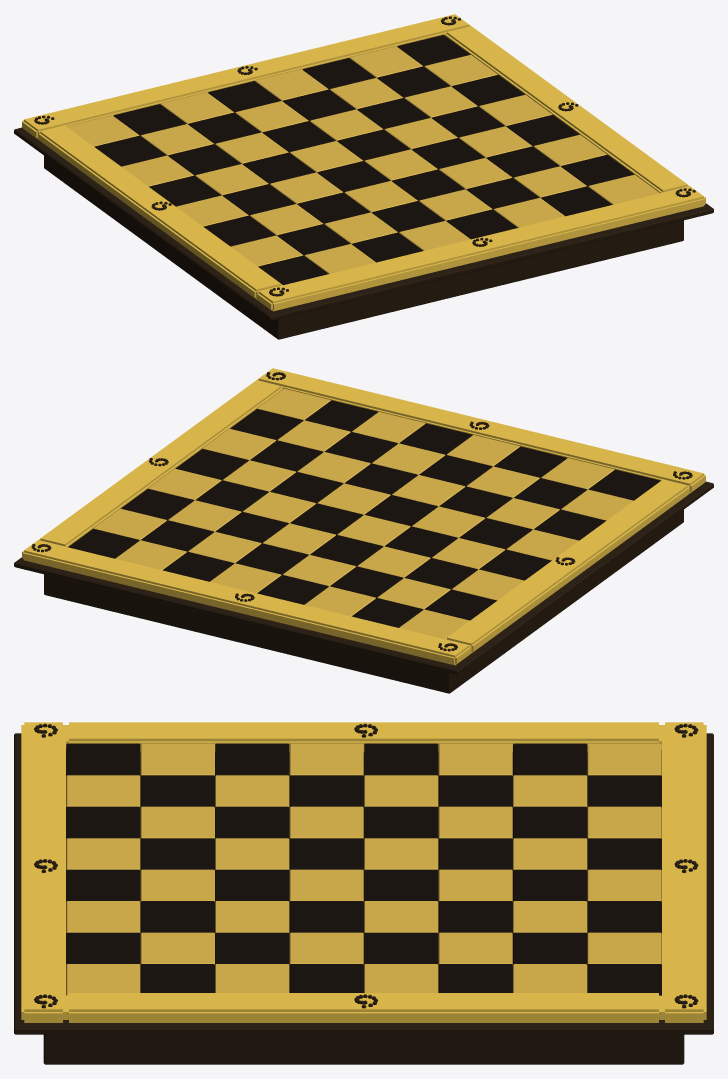
File: MuseoDelOro_Tablero.fbx
3 renders of one model, top to bottom at view 1: azimuth 30°, elevation 25°; view 2: azimuth 150°, elevation 25°; view 3: azimuth 270°, elevation 25°, orthographic. The views are drawn at different scales.
Visible parts, largest first — view 1: MuseoDelOro_Tablero; view 2: MuseoDelOro_Tablero; view 3: MuseoDelOro_Tablero.
Boxes of the visible parts, left/top/right/bottom form: MuseoDelOro_Tablero: left=14, top=14, right=713, bottom=339; MuseoDelOro_Tablero: left=14, top=368, right=713, bottom=693; MuseoDelOro_Tablero: left=14, top=722, right=713, bottom=1064.
Size of the model in its own units: 9.4 by 0.995 by 9.4.
